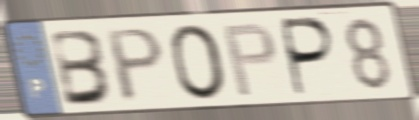8: (341, 14, 397, 93)
B: (48, 28, 116, 110)
O: (166, 21, 231, 102)
P: (104, 24, 166, 106), (280, 15, 338, 99), (220, 20, 279, 100)
